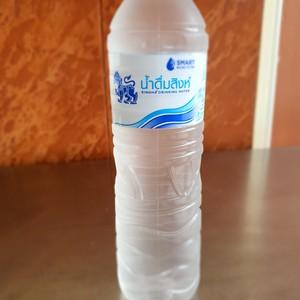bottle: (104, 0, 211, 300)
